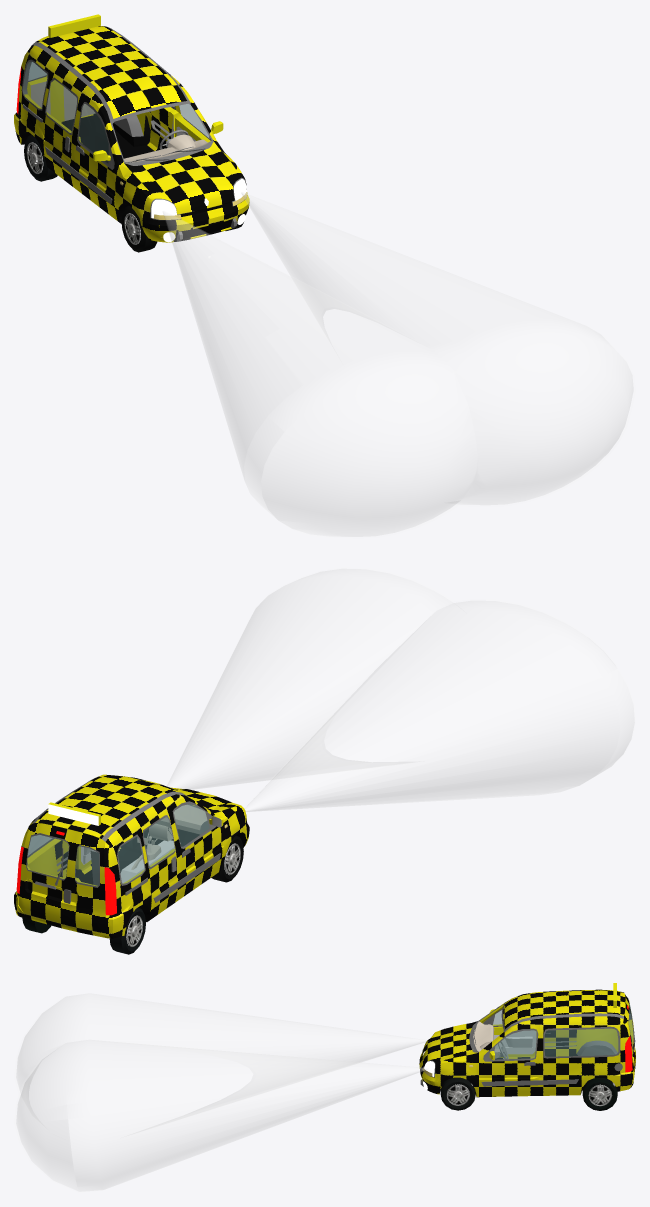
Rendered from followme.glb.
3 views of the same model, one above another, from view 1: azimuth 30°, elevation 25°; view 2: azimuth 150°, elevation 25°; view 3: azimuth 270°, elevation 25° (orthographic). The views are drawn at different scales.
Size of the model in its own units: 1.85 by 1.06 by 3.65.
31 materials, 6 textured.
